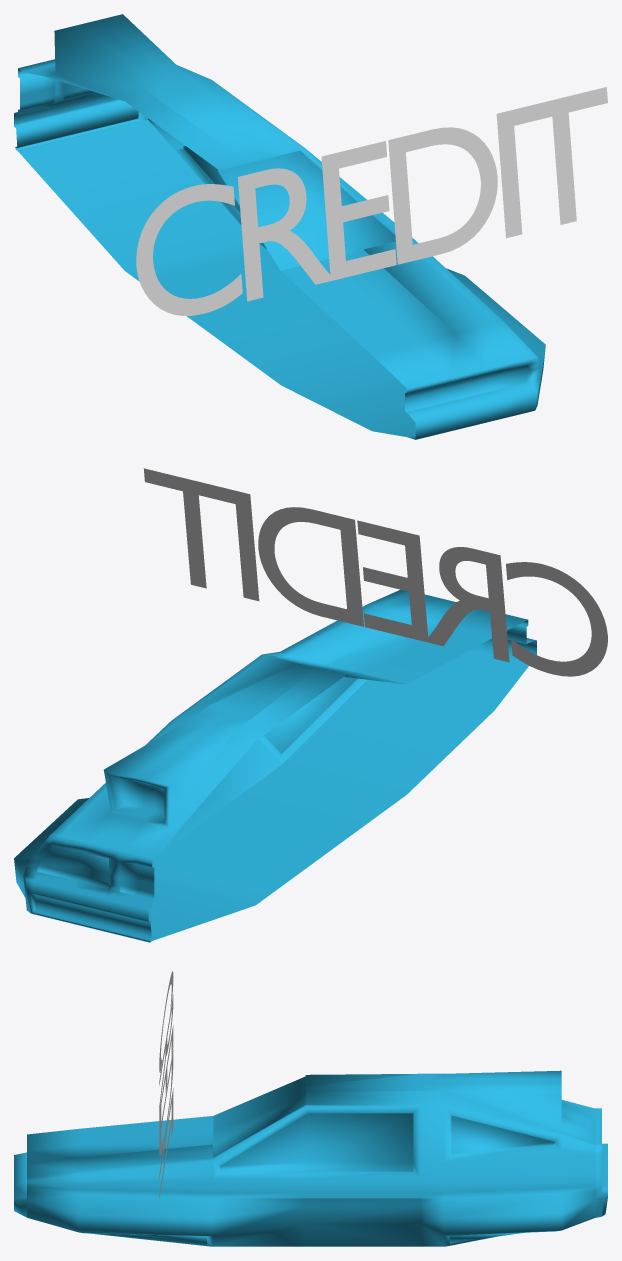
The model's file is lowpoly_credit_car.glb.
3 views of the same model, one above another, from view 1: azimuth 30°, elevation 25°; view 2: azimuth 150°, elevation 25°; view 3: azimuth 270°, elevation 25° (orthographic). The views are drawn at different scales.
Visible parts, largest first — view 1: Credit_Car, Text; view 2: Credit_Car, Text; view 3: Credit_Car, Text.
Part boxes in pixels (box(x1,y1,x2,y2)): Credit_Car: box(14, 14, 545, 439); Text: box(136, 87, 607, 315); Credit_Car: box(14, 589, 536, 942); Text: box(143, 468, 607, 676); Credit_Car: box(14, 1070, 607, 1246); Text: box(159, 971, 173, 1198).
Bounding box in the file's own units: 2.85 × 1.41 × 4.17.
